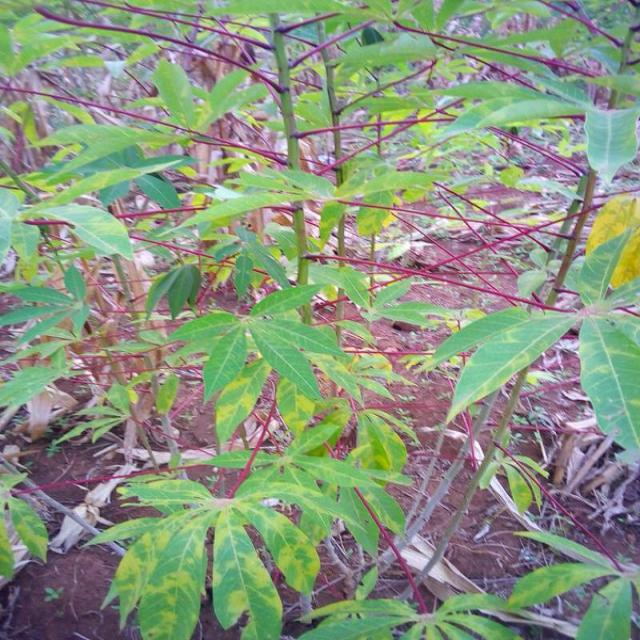cassava leaf: (443, 310, 576, 424), (578, 307, 640, 464), (584, 102, 640, 184)
